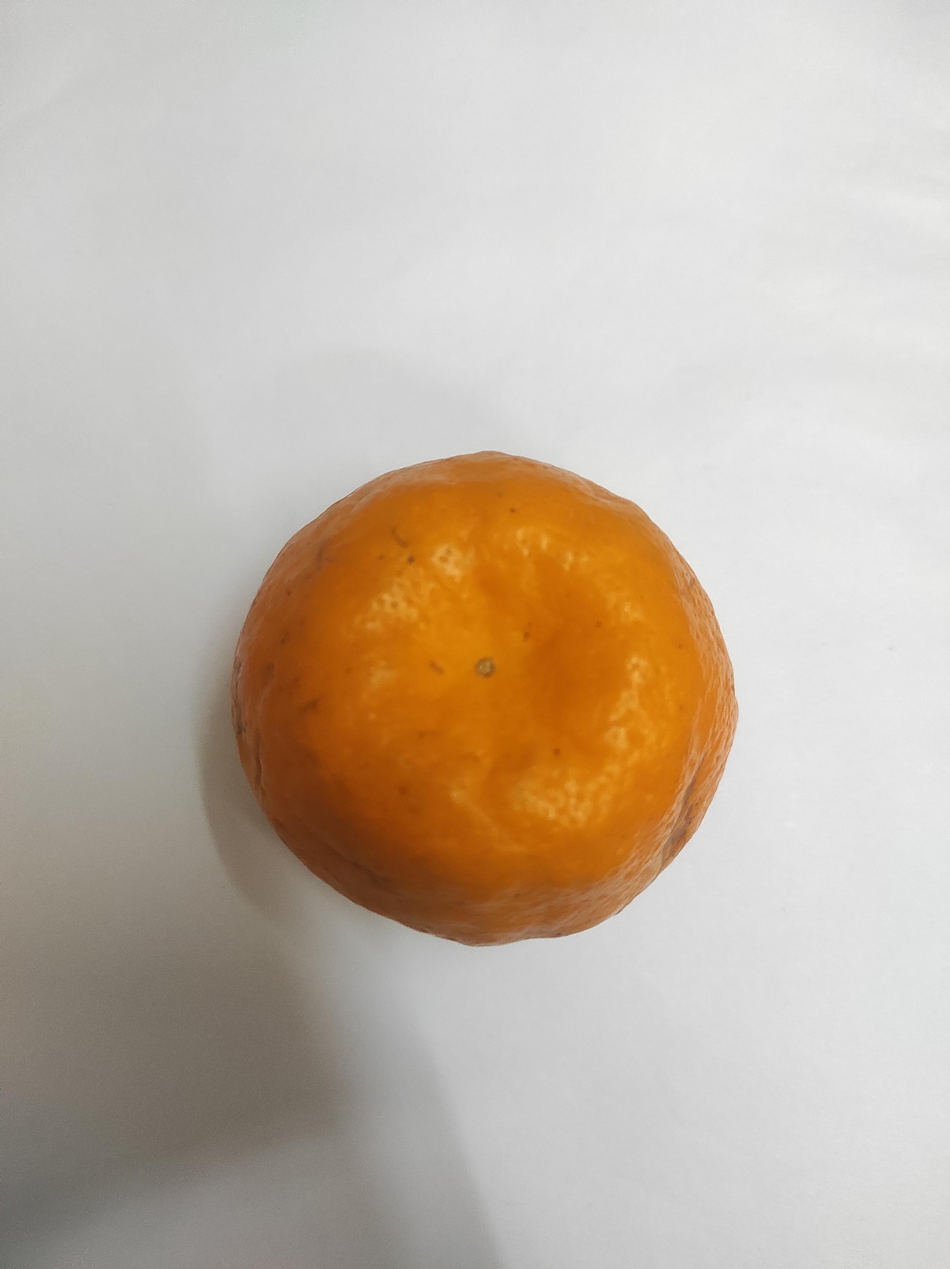Orange Ripe: (176, 611, 547, 1265)
